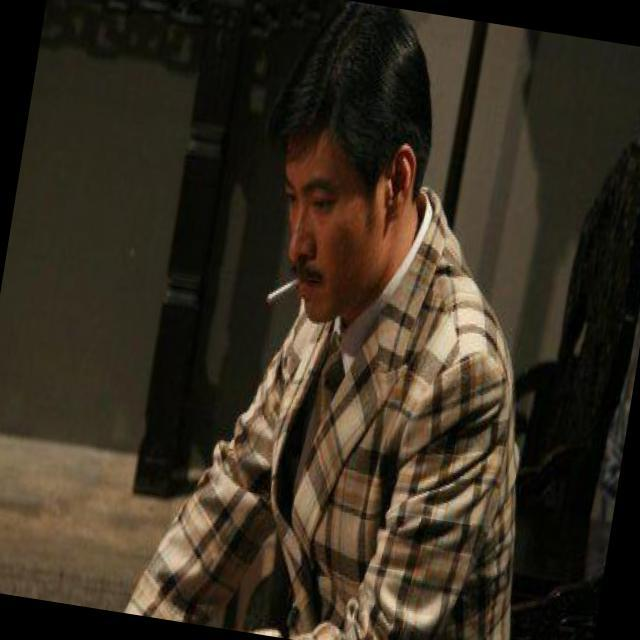cigarette: (264, 273, 301, 308)
